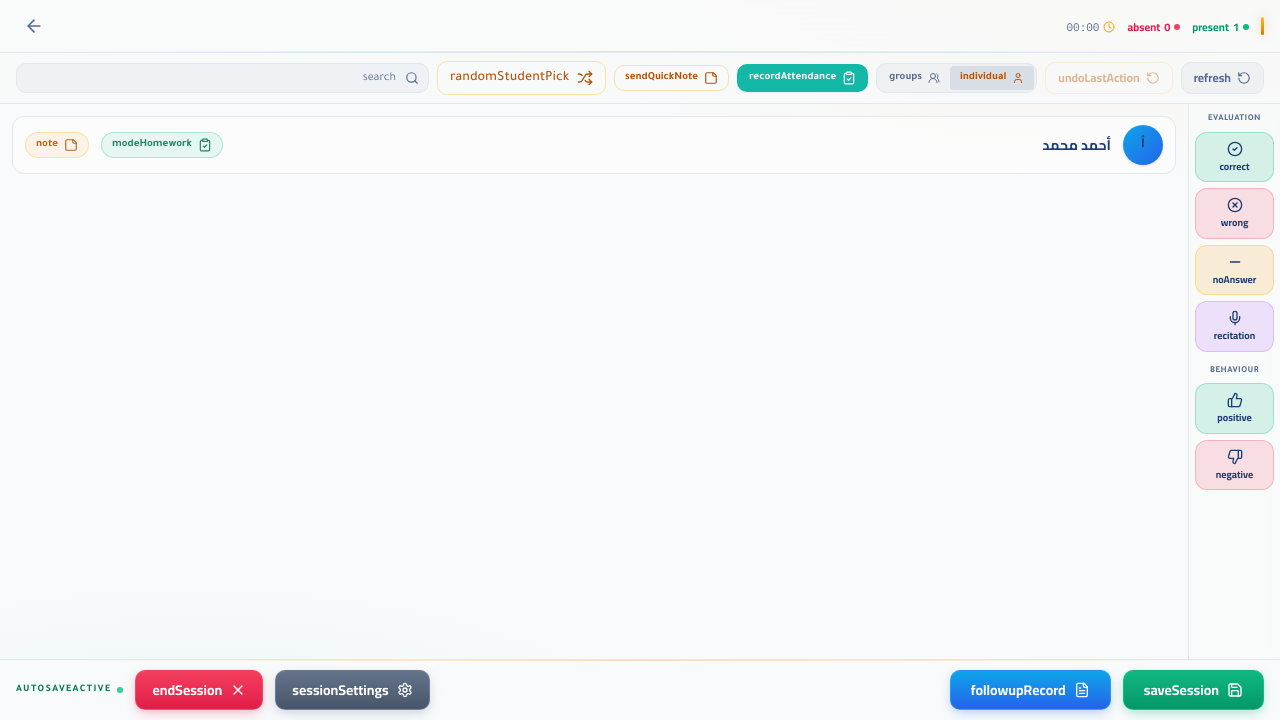
Test: undo activates immediately when the first action is a mastered recitation
Step 1. Click the button "أ أحمد محمد modeHomework note" → x=1143, y=145, box [12,116,1176,174]
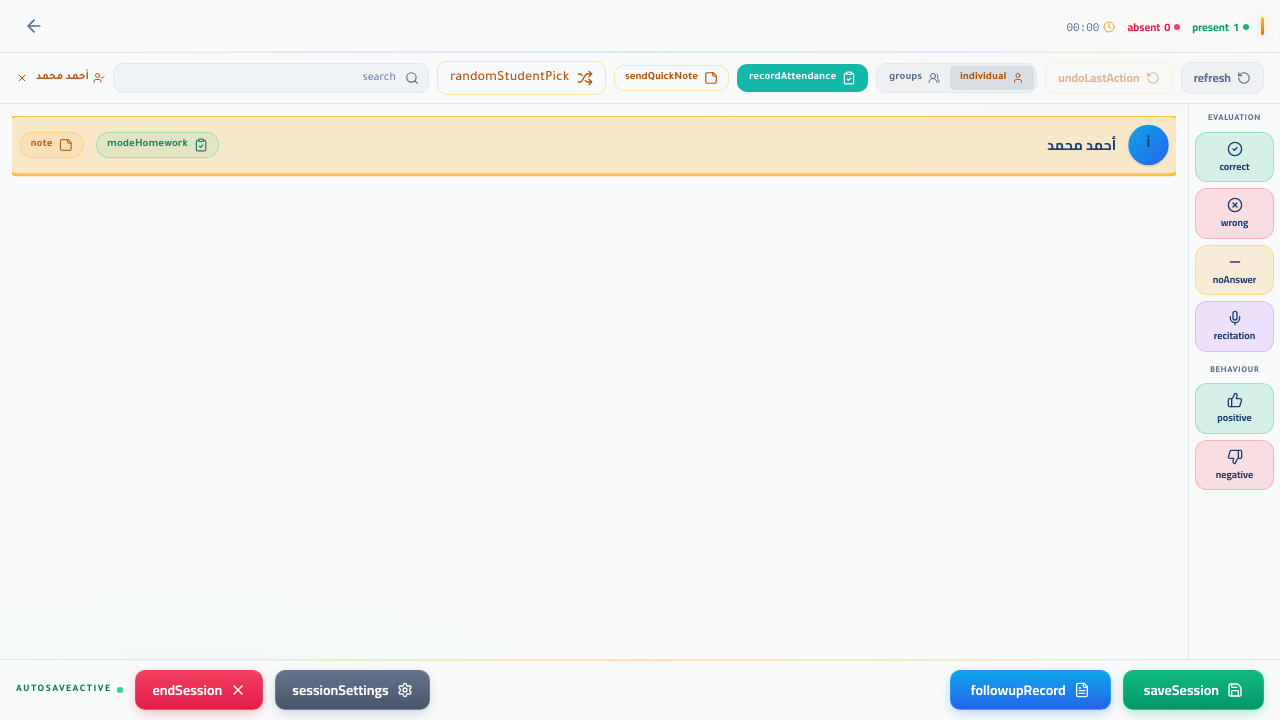
Step 2. Click the button "recitation" → x=1234, y=326, box [1195,301,1274,352]
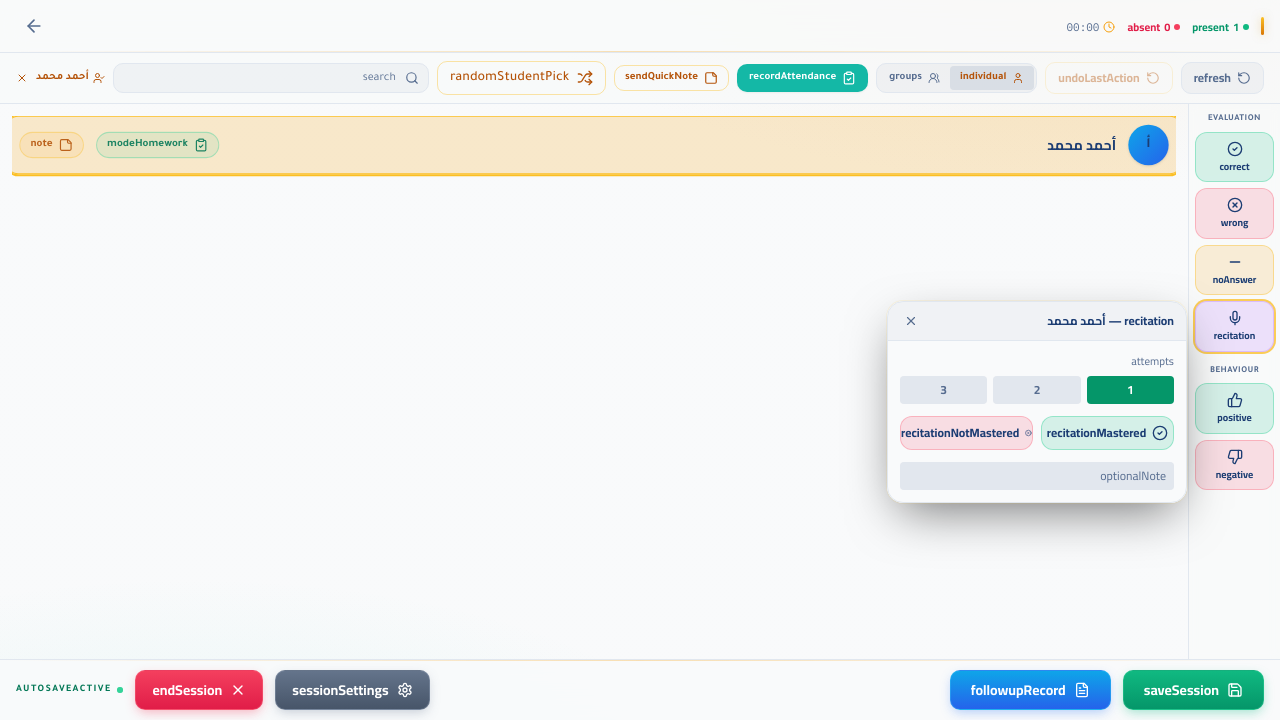
expect the button "undoLastAction" is disabled: met, box [1045,62,1173,94]
Step 3. Click the button "recitationMastered" → x=1108, y=432, box [1041,416,1174,450]
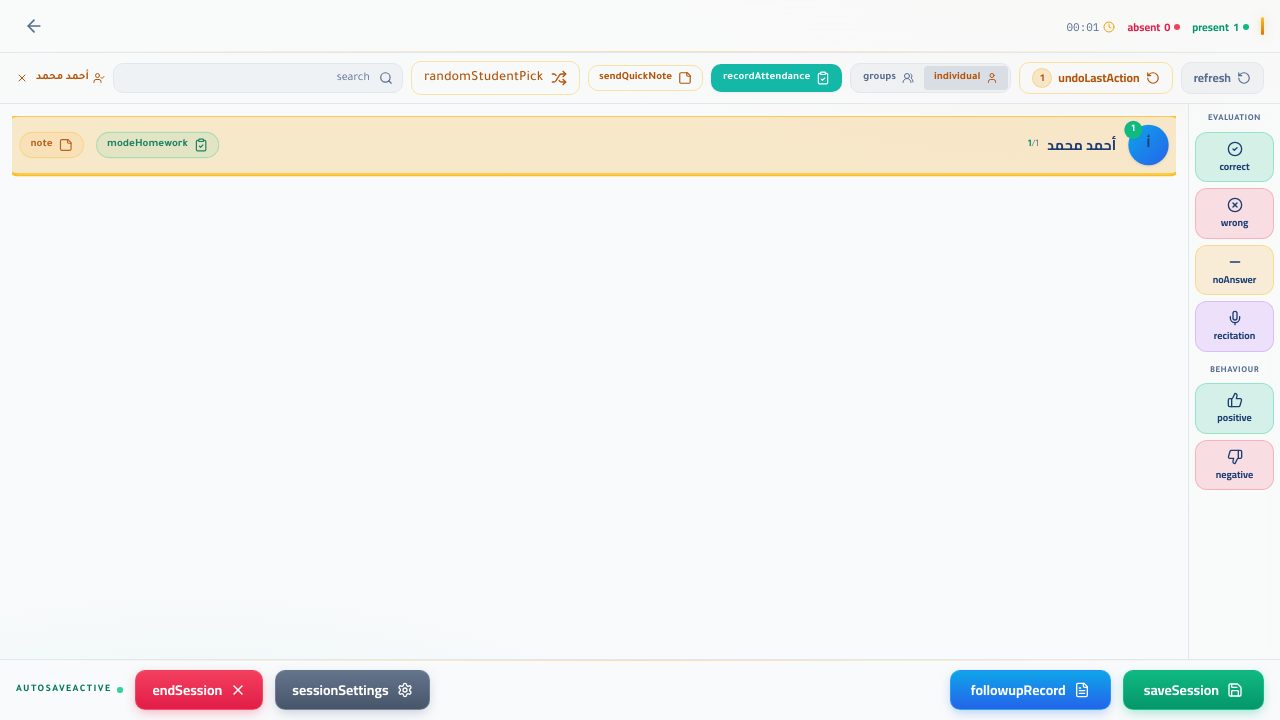
expect the button "undoLastAction 1" is enabled: met, box [1019,62,1173,94]
